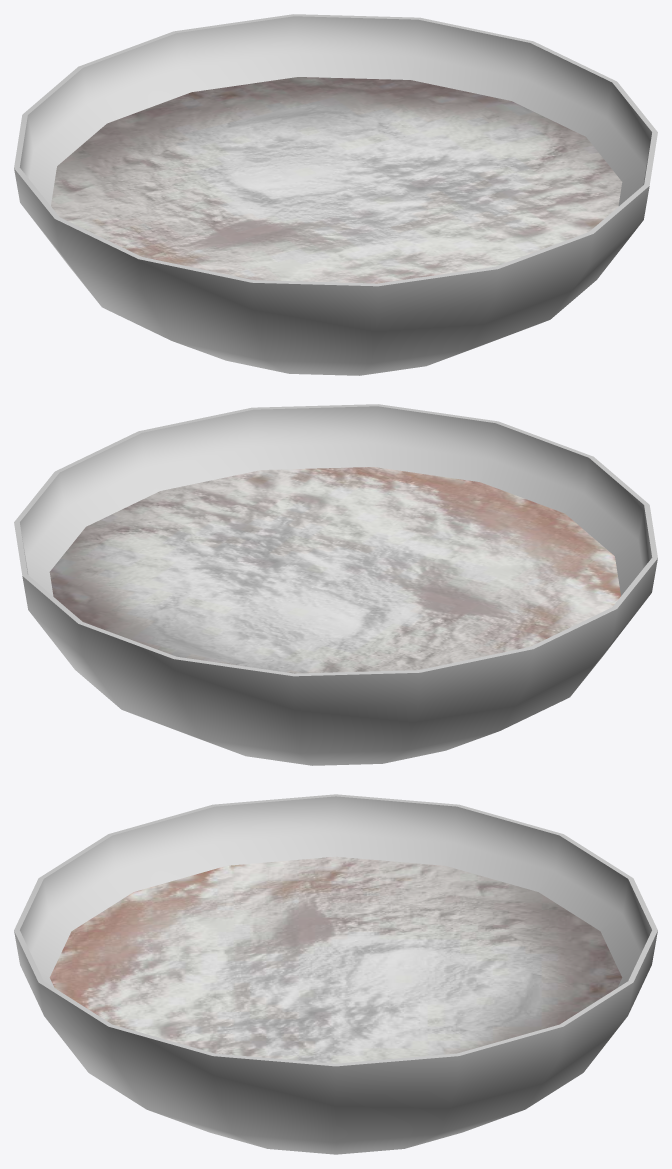
Rendered from Baking soda bowl.fbx.
3 views of the same model, one above another, from view 1: azimuth 30°, elevation 25°; view 2: azimuth 150°, elevation 25°; view 3: azimuth 270°, elevation 25° (orthographic).
Visible parts, largest first — view 1: Baking_soda_bowl, Baking_soda; view 2: Baking_soda_bowl, Baking_soda; view 3: Baking_soda_bowl, Baking_soda.
Boxes of the visible parts, x1,y1,x2,y2 form: Baking_soda_bowl: [14, 14, 657, 375]; Baking_soda: [51, 77, 622, 283]; Baking_soda_bowl: [14, 404, 657, 765]; Baking_soda: [49, 467, 620, 673]; Baking_soda_bowl: [14, 794, 657, 1154]; Baking_soda: [49, 856, 622, 1063].
Bounding box in the file's own units: 26.79 × 8.23 × 26.79.
2 materials, 1 textured.
